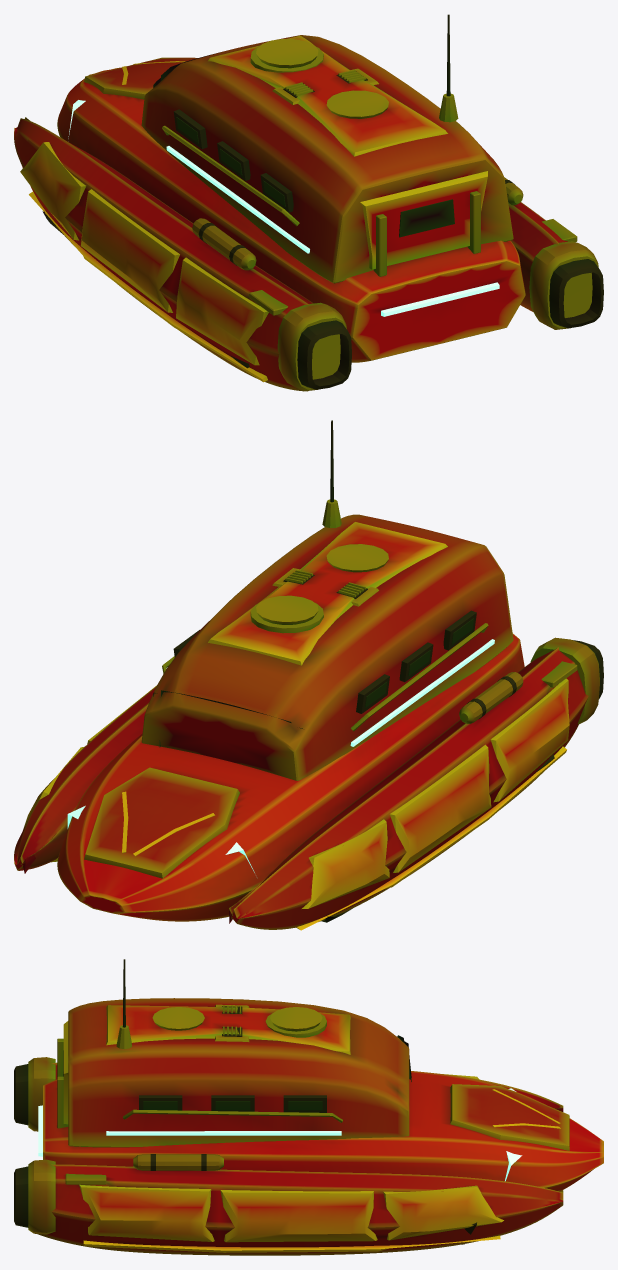
File: apc.glb
3 views of the same model, one above another, from view 1: azimuth 30°, elevation 25°; view 2: azimuth 150°, elevation 25°; view 3: azimuth 270°, elevation 25° (orthographic). The views are drawn at different scales.
Parts seen in each view (by area): view 1: ApcHull; view 2: ApcHull; view 3: ApcHull.
Boxes of the visible parts, left/top/right/bottom form: ApcHull: left=14, top=14, right=603, bottom=391; ApcHull: left=14, top=420, right=603, bottom=930; ApcHull: left=14, top=959, right=603, bottom=1255.
Bounding box in the file's own units: 3.54 × 3.17 × 6.52.
